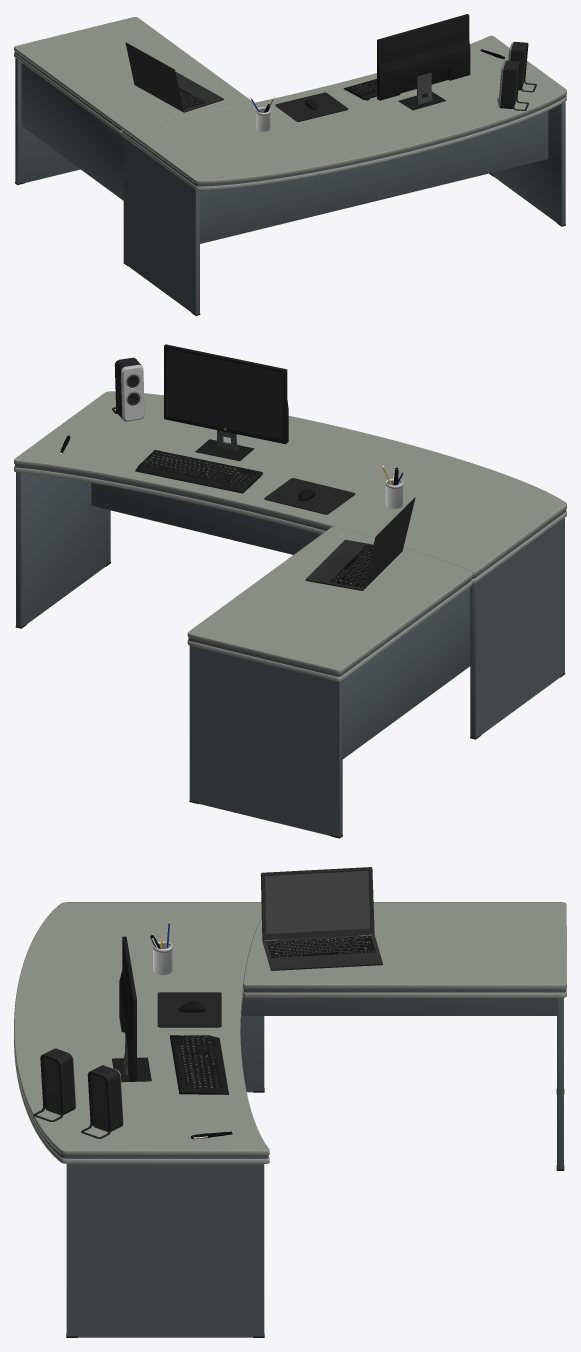
File: bureauStatic.gltf
3 views of the same model, one above another, from view 1: azimuth 30°, elevation 25°; view 2: azimuth 150°, elevation 25°; view 3: azimuth 270°, elevation 25° (orthographic). The views are drawn at different scales.
Parts seen in each view (by area): view 1: ExecutiveDesk, SM_Monitor, SM_Laptop, SM_Mousepad, PCSpeaker01Right, PCSpeaker01Left, SM_Keyboard; view 2: ExecutiveDesk, SM_Monitor, SM_Laptop, SM_Keyboard, SM_Mousepad, PCSpeaker01Left; view 3: ExecutiveDesk, SM_Laptop, SM_Keyboard, SM_Monitor, PCSpeaker01Right, PCSpeaker01Left, SM_Mousepad, SM_PencilPot.
Part boxes in pixels (bbox=[...]): ExecutiveDesk: bbox=[14, 17, 566, 315]; SM_Monitor: bbox=[377, 14, 470, 110]; SM_Laptop: bbox=[125, 42, 223, 112]; SM_Mousepad: bbox=[275, 92, 348, 121]; PCSpeaker01Right: bbox=[497, 60, 528, 110]; PCSpeaker01Left: bbox=[508, 41, 536, 92]; SM_Keyboard: bbox=[343, 79, 376, 100]; ExecutiveDesk: bbox=[14, 391, 566, 838]; SM_Monitor: bbox=[164, 344, 288, 461]; SM_Laptop: bbox=[305, 497, 415, 590]; SM_Keyboard: bbox=[135, 450, 262, 493]; SM_Mousepad: bbox=[264, 478, 355, 514]; PCSpeaker01Left: bbox=[111, 357, 144, 421]; ExecutiveDesk: bbox=[14, 902, 566, 1337]; SM_Laptop: bbox=[260, 867, 382, 970]; SM_Keyboard: bbox=[170, 1035, 228, 1094]; SM_Monitor: bbox=[112, 936, 151, 1082]; PCSpeaker01Right: bbox=[33, 1048, 76, 1121]; PCSpeaker01Left: bbox=[81, 1065, 123, 1138]; SM_Mousepad: bbox=[157, 992, 221, 1027]; SM_PencilPot: bbox=[153, 941, 172, 974].
Size of the model in its own units: 2 by 1.08 by 1.88.
